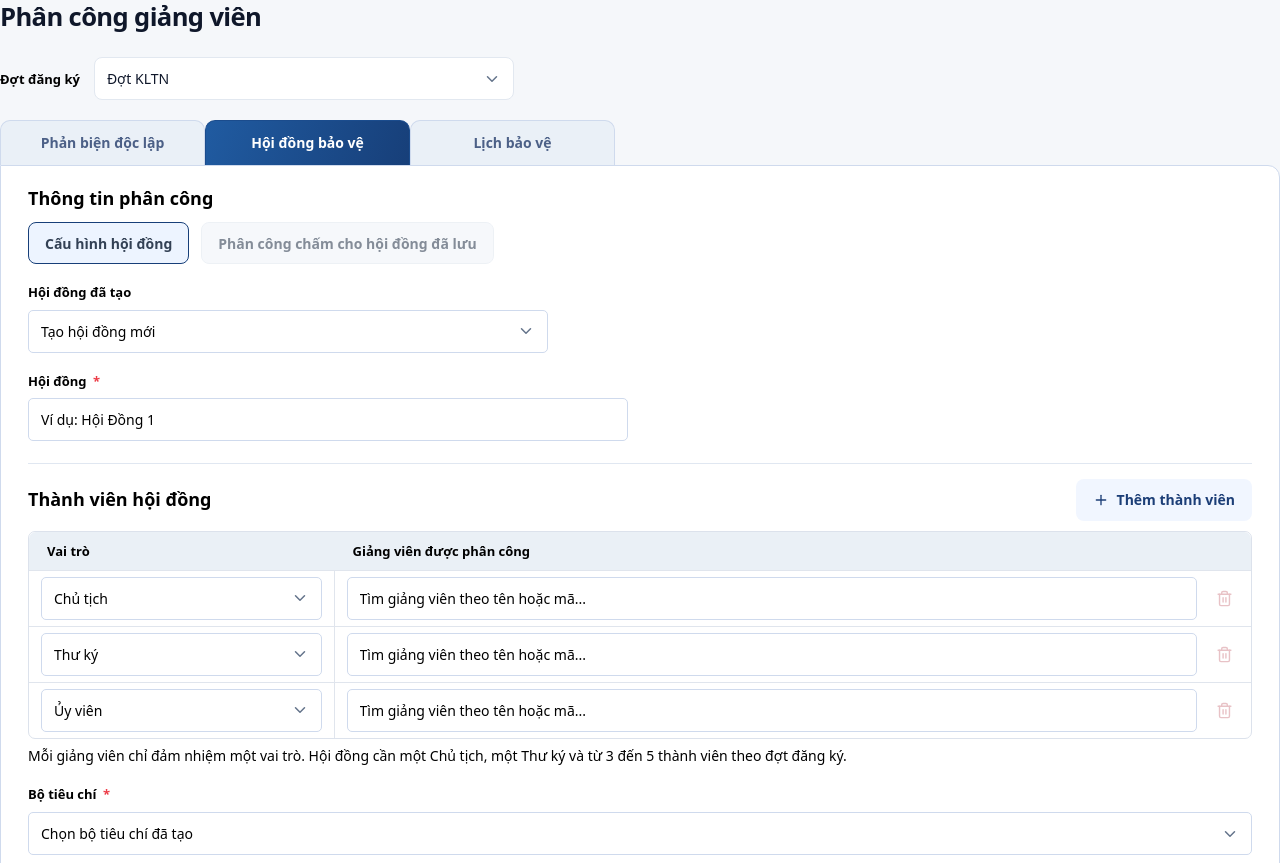
Scenario: truyền defenseDate từ API đợt vào form lịch của hội đồng KLTN
Click the tab "Lịch bảo vệ".
click(512, 143)  # box [410,120,615,165]
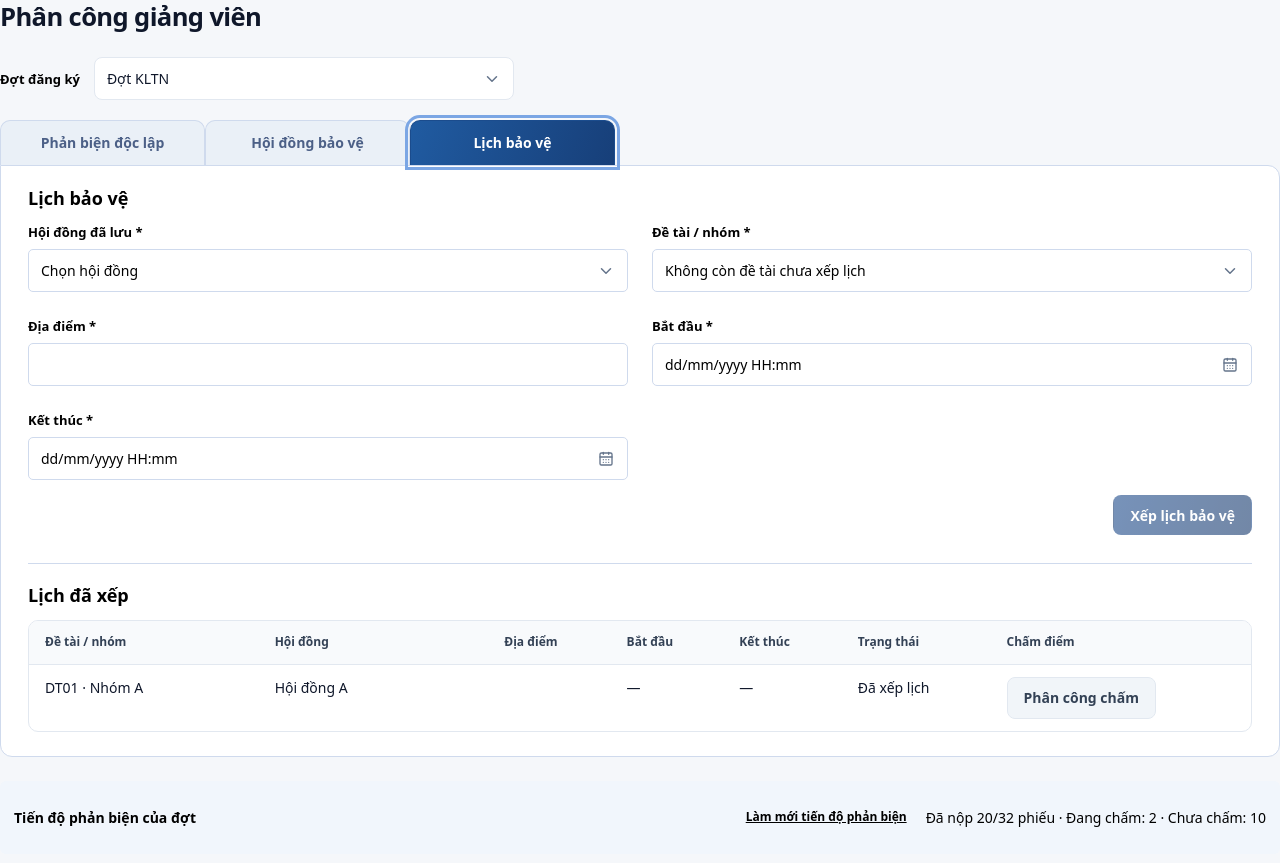
Select "Hội đồng A" in the dropdown labelled "Hội đồng đã lưu *" at (328, 271), box [28,250,628,292]
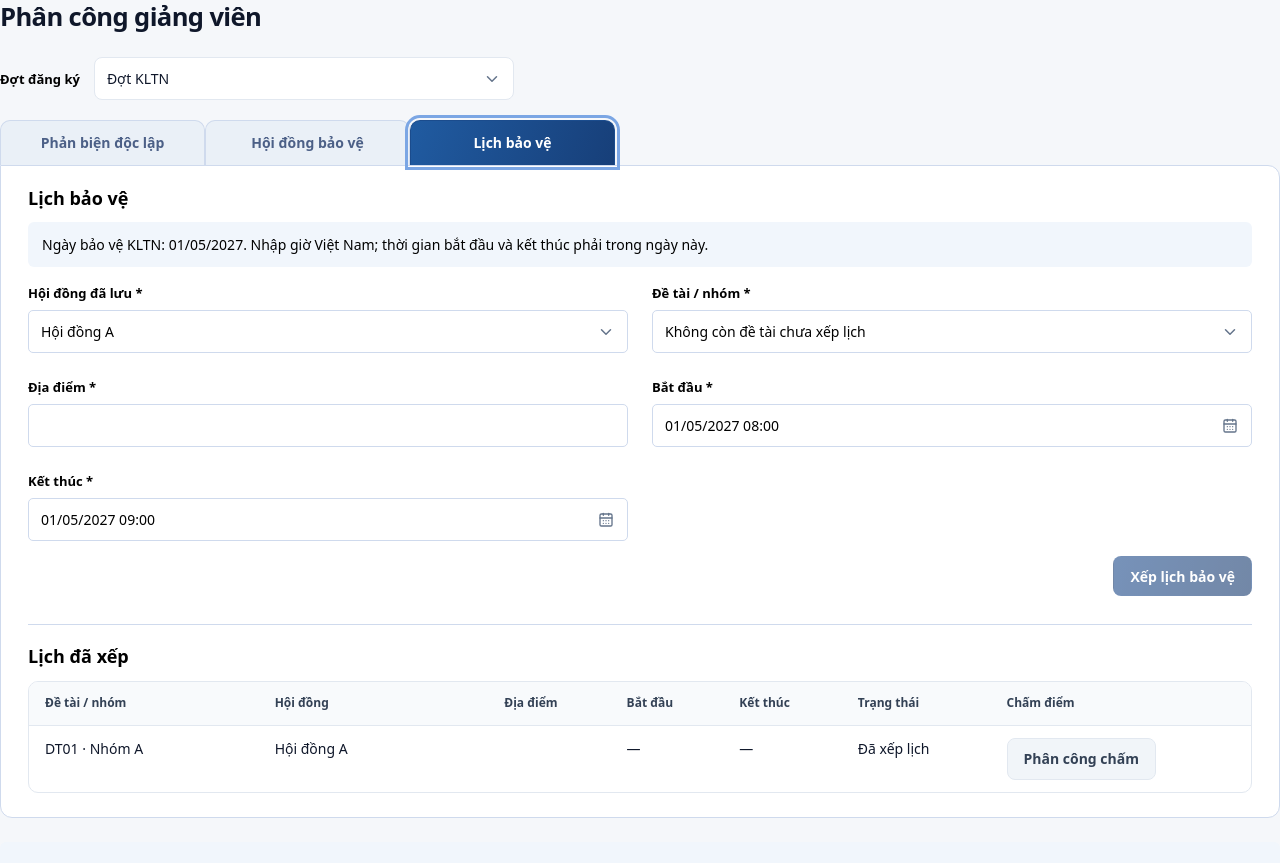
Now the field labelled "Bắt đầu *" holds "01/05/2027 08:00", box [652,404,1252,448]
Now the field labelled "Kết thúc *" holds "01/05/2027 09:00", box [28,498,628,542]
